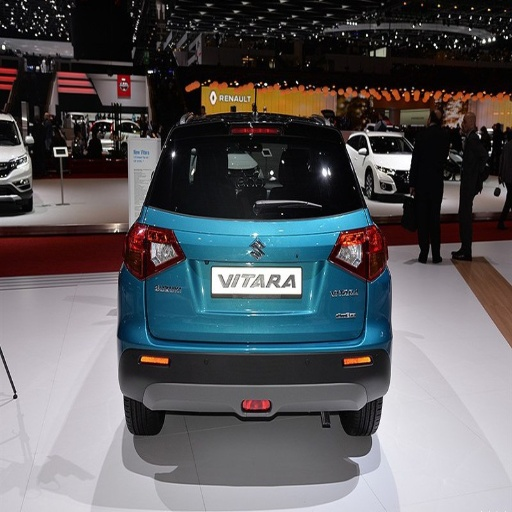back_bumper: (119, 273, 391, 424)
tailgate: (146, 209, 361, 336)
trunk: (334, 253, 364, 337)
